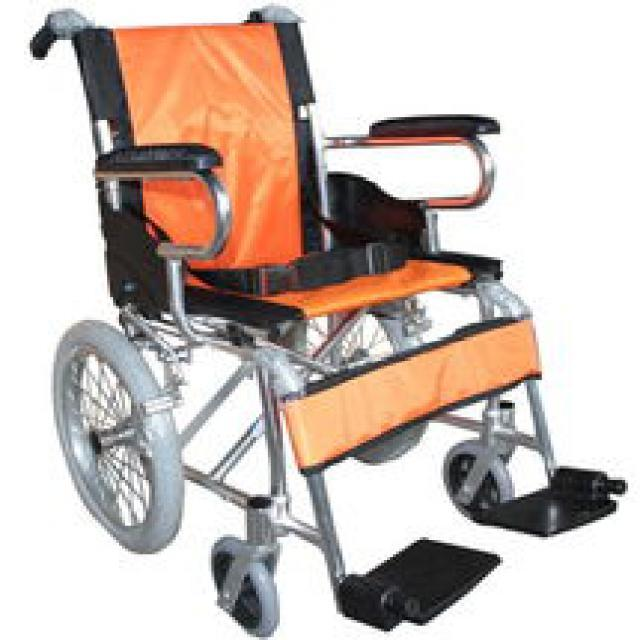wheelchair: (3, 8, 619, 638)
